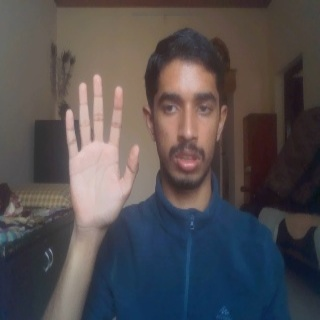Face: (141, 25, 230, 202)
Hello: (61, 71, 141, 231)
